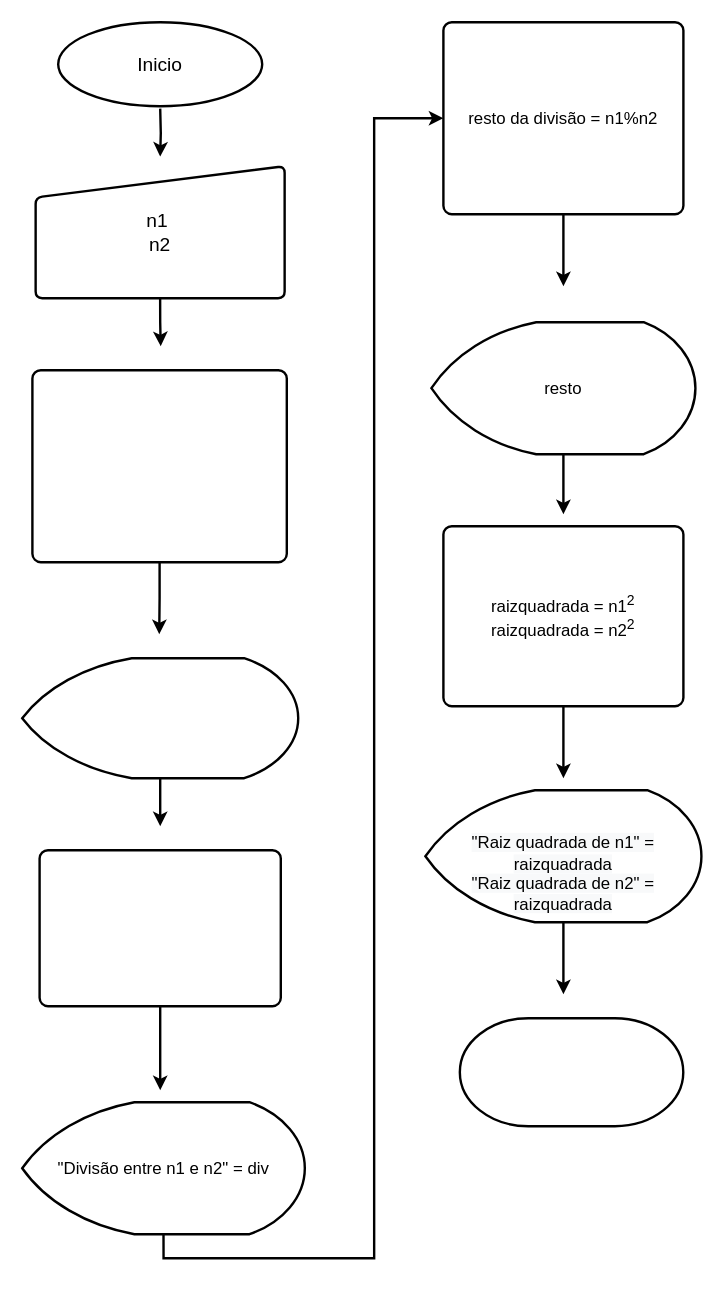
This 722x1289 diagram has some shape labels left out. The shapes that lost their labels are listed below. From the top down, each one's centre as x and y in pixels, then its label:
point (159, 465): potdon1 = n1 5 potdon2 = n2 5
point (159, 717): "Potencia do n1 é: " = potdon1 "Potencia do n2 é: " = potdon2
point (159, 927): div = n1 /n2
point (571, 1071): Fim
